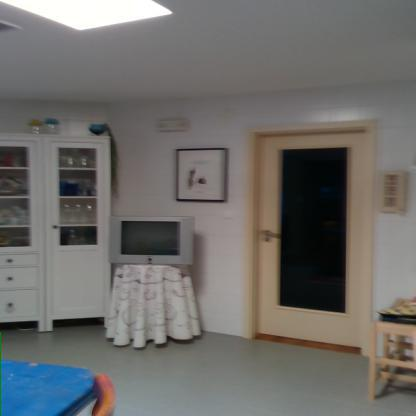door: (258, 135, 366, 350)
lever: (259, 230, 283, 240)
